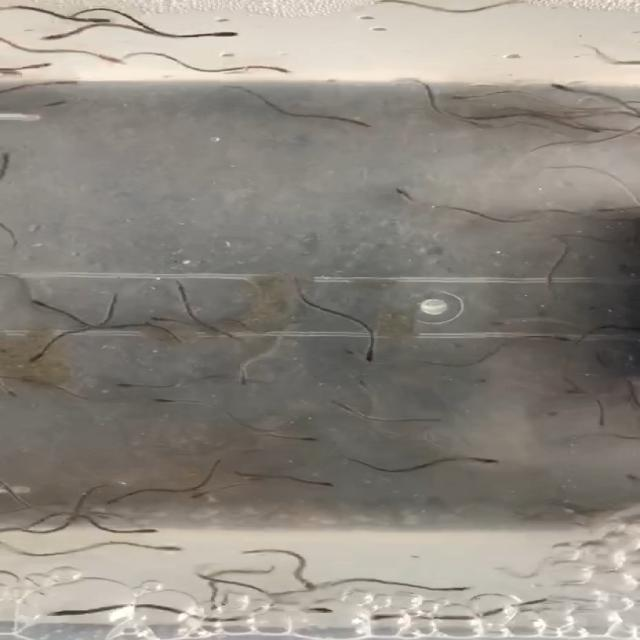active_glass_eel: (60, 6, 111, 26), (387, 186, 432, 208), (201, 24, 241, 44), (31, 72, 79, 88), (38, 27, 81, 44), (33, 605, 76, 622), (439, 90, 486, 105), (138, 541, 185, 556), (101, 489, 140, 507), (230, 366, 265, 386), (360, 351, 396, 368), (584, 198, 622, 214), (20, 62, 60, 77), (208, 549, 254, 562), (186, 484, 219, 502), (256, 61, 298, 75), (146, 392, 182, 408), (326, 398, 362, 414), (34, 97, 75, 111), (552, 76, 582, 95), (476, 316, 514, 331), (298, 606, 338, 620), (126, 521, 163, 536), (560, 376, 590, 394), (0, 146, 22, 170), (341, 376, 378, 390), (467, 454, 510, 466), (92, 52, 124, 68), (16, 348, 44, 366), (112, 379, 145, 394), (332, 115, 373, 127), (472, 372, 501, 388), (0, 379, 23, 399), (316, 74, 348, 88), (23, 298, 54, 312), (309, 476, 340, 490), (289, 434, 327, 445), (139, 317, 172, 329), (203, 597, 228, 612), (544, 334, 578, 344), (595, 414, 621, 426), (540, 409, 564, 419)
